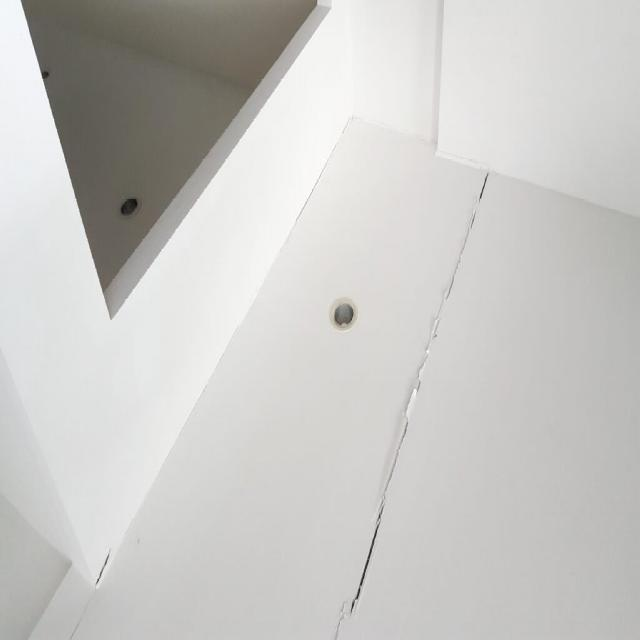Crack: (350, 174, 494, 616), (92, 539, 115, 586), (327, 602, 351, 640), (70, 602, 92, 640)
